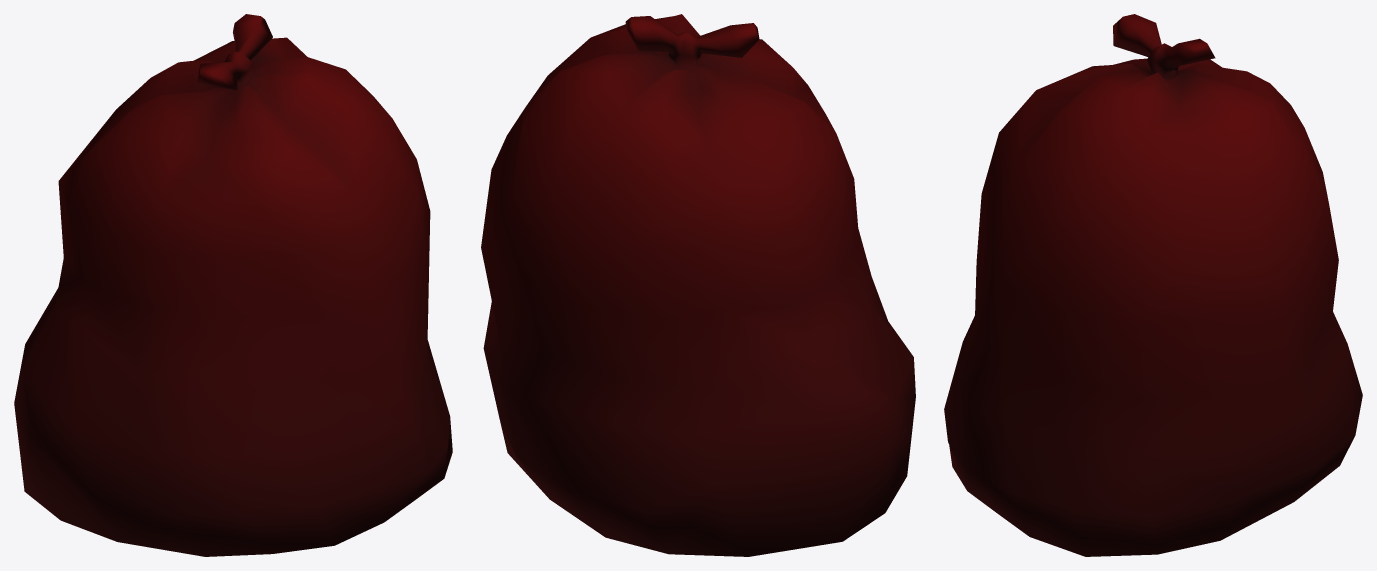
Rendered from GarbageBag003.glb.
3 views of the same model, side by side, from view 1: azimuth 30°, elevation 25°; view 2: azimuth 150°, elevation 25°; view 3: azimuth 270°, elevation 25° (orthographic). The views are drawn at different scales.
Parts seen in each view (by area): view 1: GarbageBag003; view 2: GarbageBag003; view 3: GarbageBag003.
Boxes of the visible parts, x1,y1,x2,y2 form: GarbageBag003: [14, 14, 452, 556]; GarbageBag003: [481, 14, 915, 556]; GarbageBag003: [944, 14, 1362, 556].
Size of the model in its own units: 4.02 by 4.33 by 3.64.
